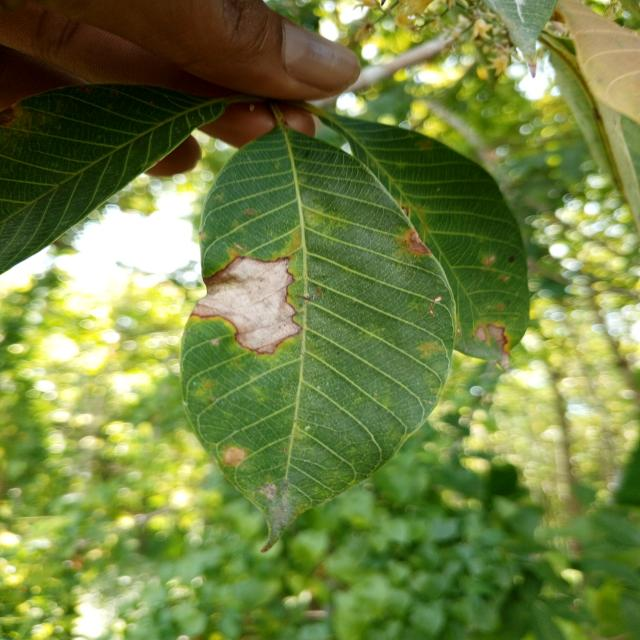Leaf-Blight: (190, 256, 302, 354)
